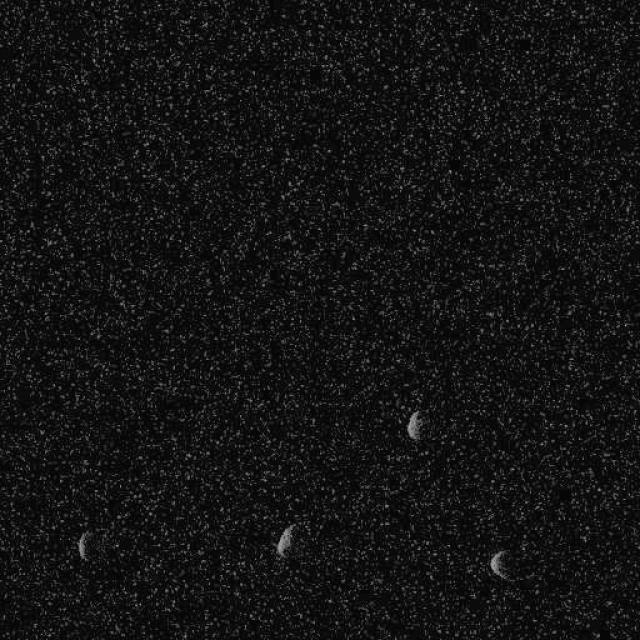D2: (488, 549, 512, 581), (275, 522, 296, 558), (405, 409, 426, 441), (75, 529, 91, 560)
